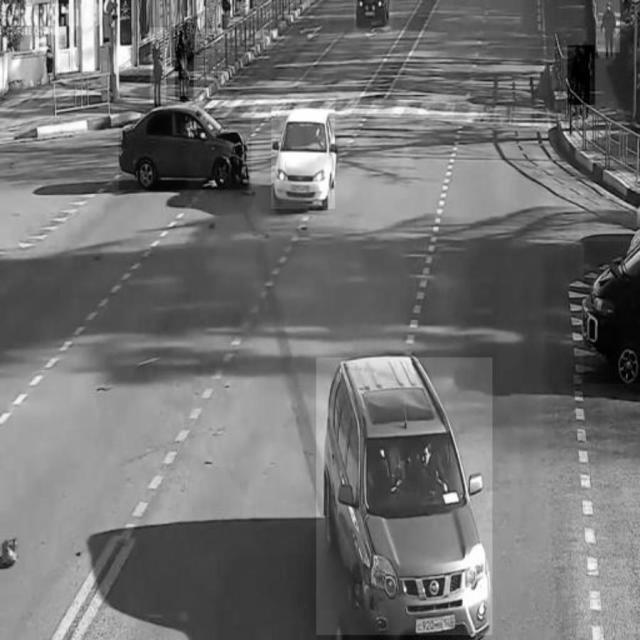person: (568, 44, 595, 105), (175, 23, 193, 99), (595, 1, 620, 53), (150, 28, 166, 104)
vehicle: (317, 358, 493, 636), (119, 107, 251, 189), (584, 241, 640, 383), (271, 107, 335, 209), (354, 1, 392, 36)
